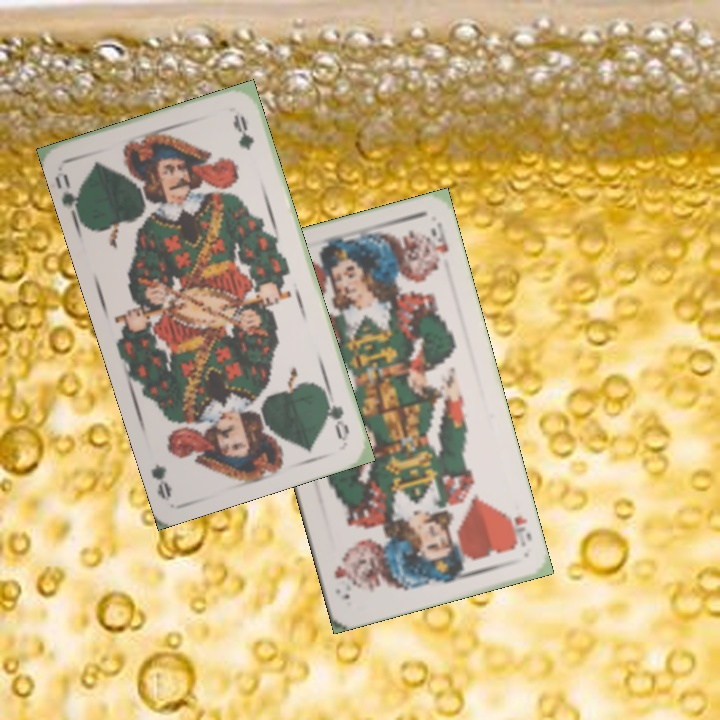GO: (321, 385, 352, 444), (58, 170, 84, 225)
HO: (501, 508, 535, 552)
